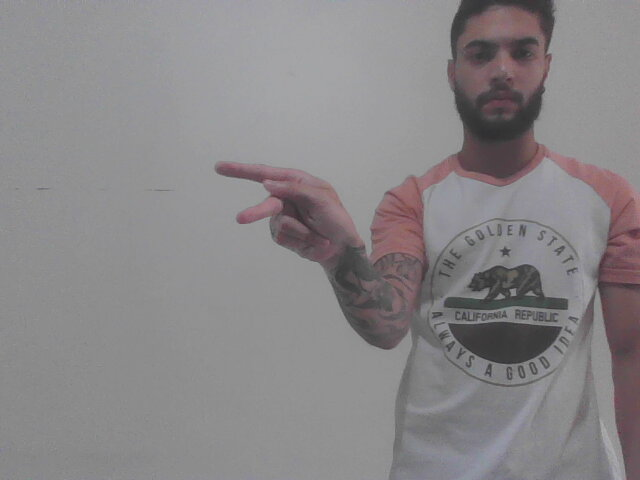p: (208, 148, 370, 276)
